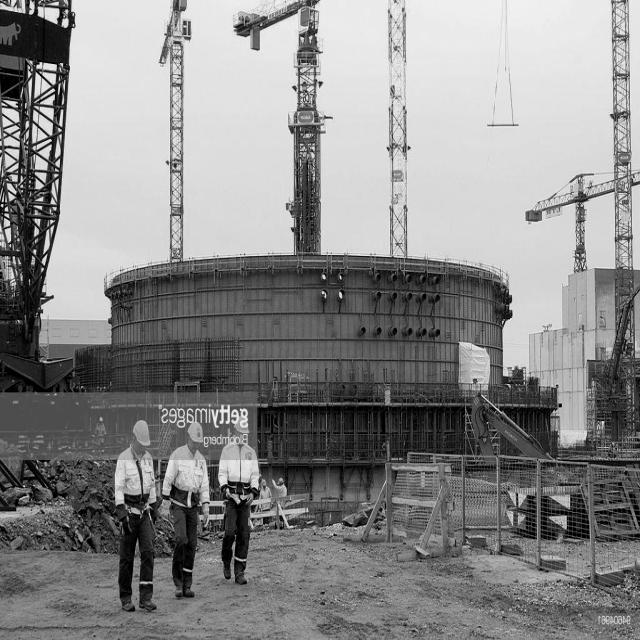hand_glove: (198, 492, 215, 536), (160, 499, 174, 527)
hand_noglove: (243, 494, 256, 513)
head_helmet: (134, 420, 154, 443), (187, 418, 207, 440), (235, 418, 248, 433), (278, 475, 285, 485), (260, 479, 267, 484), (98, 416, 103, 422)
person: (110, 416, 158, 614), (167, 424, 209, 599), (219, 414, 250, 588), (258, 476, 271, 523), (276, 469, 289, 512), (94, 418, 106, 446)
shoes: (221, 552, 233, 582), (136, 596, 158, 612), (236, 567, 250, 590), (182, 582, 197, 599), (119, 598, 137, 612), (172, 583, 184, 599)
vest: (163, 456, 206, 501), (116, 456, 152, 506), (222, 447, 254, 503)
